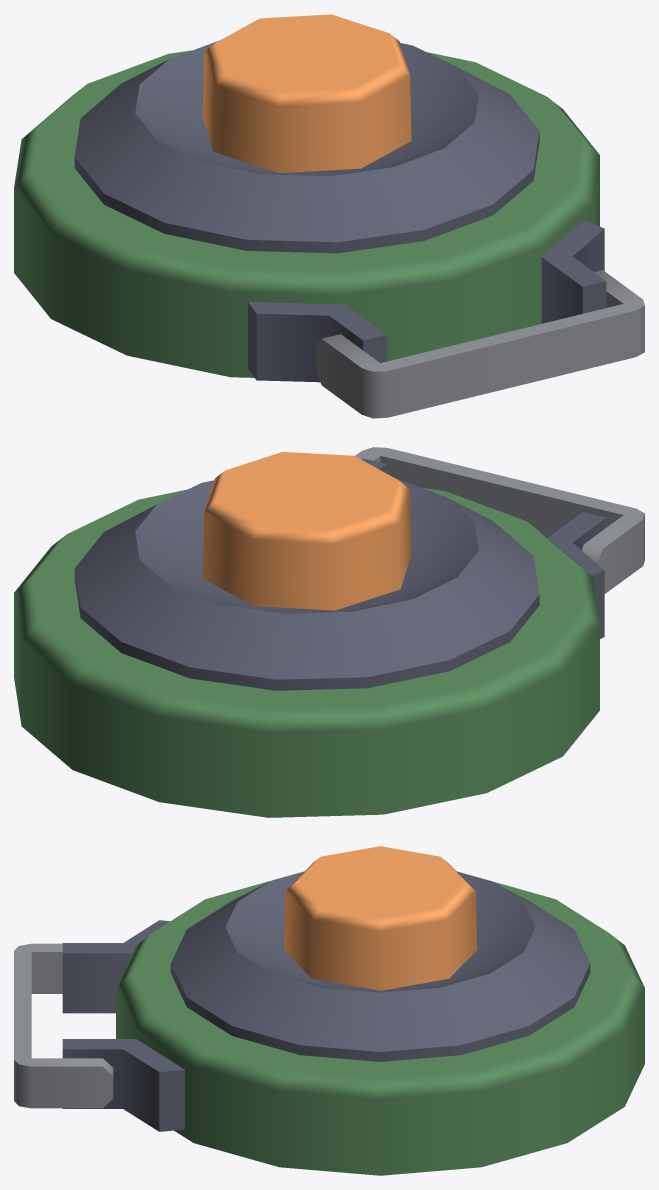
Rendered from MIne.fbx.
3 views of the same model, one above another, from view 1: azimuth 30°, elevation 25°; view 2: azimuth 150°, elevation 25°; view 3: azimuth 270°, elevation 25° (orthographic). The views are drawn at different scales.
Visible parts, largest first — view 1: Mine; view 2: Mine; view 3: Mine.
Part boxes in pixels (box(x1,y1,x2,y2)): Mine: box(14, 14, 644, 418); Mine: box(14, 447, 644, 817); Mine: box(14, 846, 644, 1175).
Bounding box in the file's own units: 74.22 × 88.56 × 28.2.
